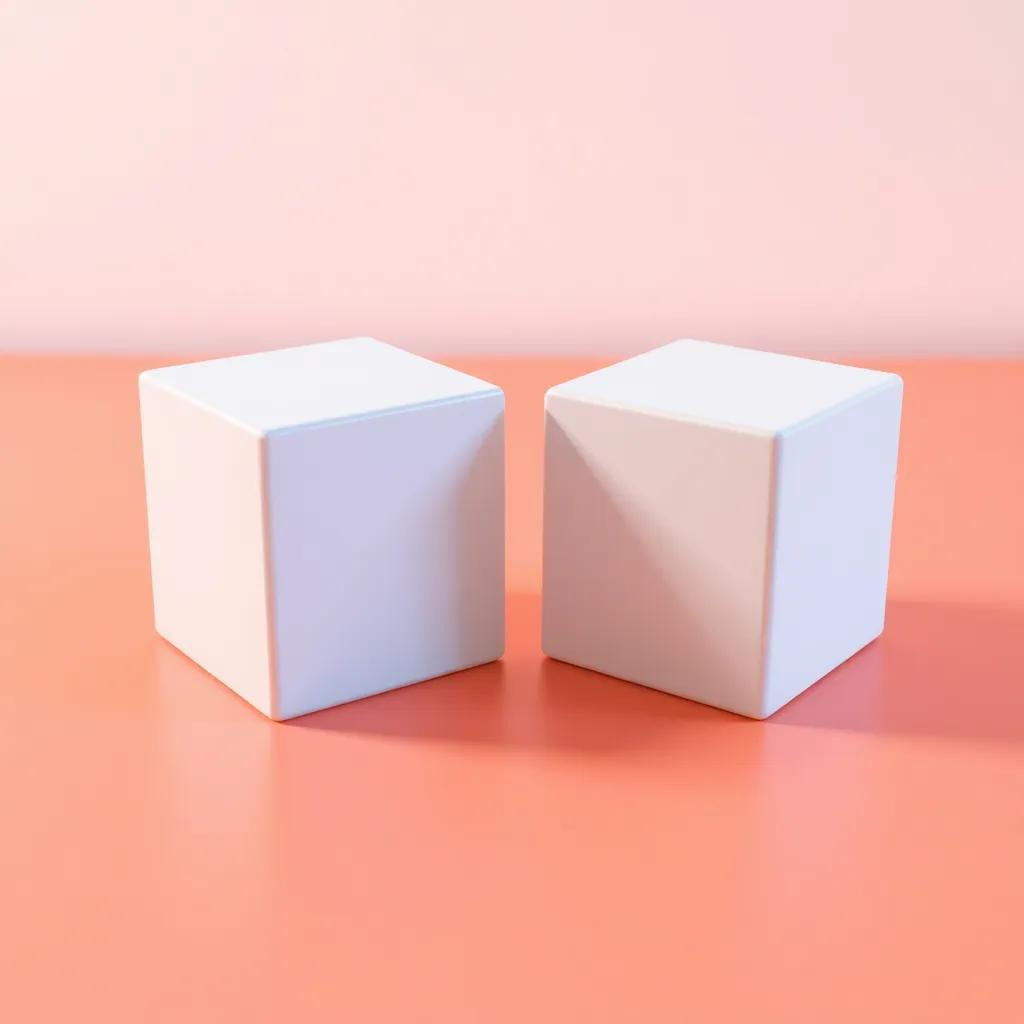cube: (136, 334, 506, 721), (540, 335, 904, 720)
